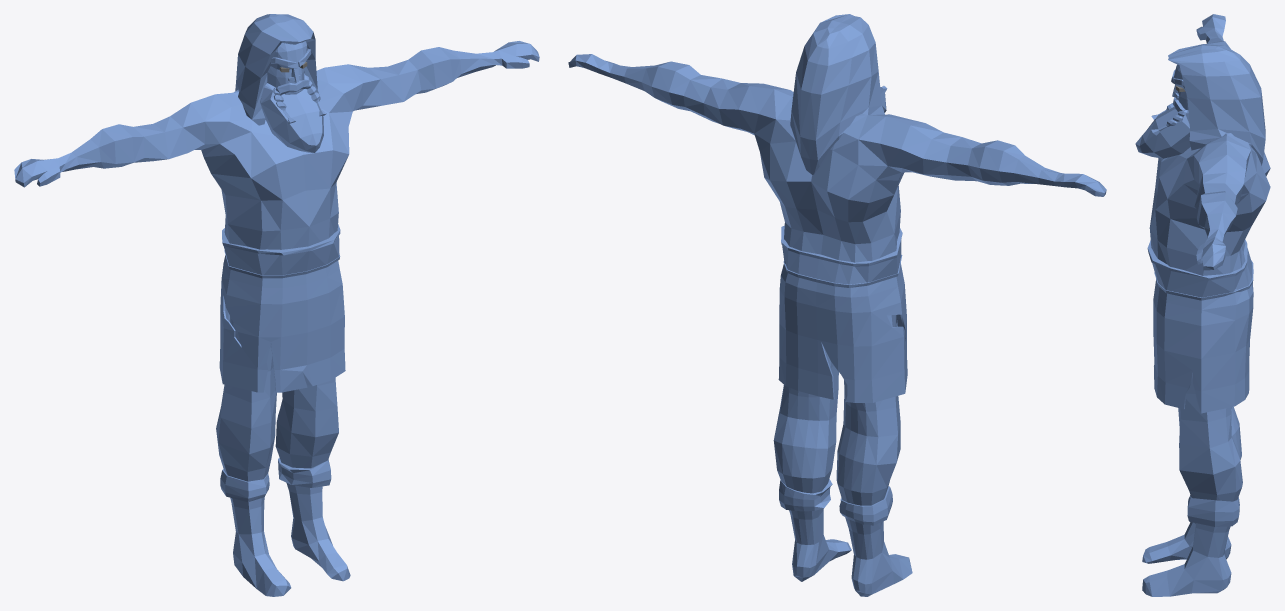
File: SM_icegiant_norse.fbx
3 views of the same model, side by side, from view 1: azimuth 30°, elevation 25°; view 2: azimuth 150°, elevation 25°; view 3: azimuth 270°, elevation 25° (orthographic). The views are drawn at different scales.
Parts seen in each view (by area): view 1: Object32233; view 2: Object32233; view 3: Object32233.
Part boxes in pixels (x1,y1,x2,y2): Object32233: (14, 14, 539, 596); Object32233: (568, 14, 1106, 596); Object32233: (1135, 14, 1270, 596).
Bounding box in the file's own units: 127 × 126 × 29.25.
